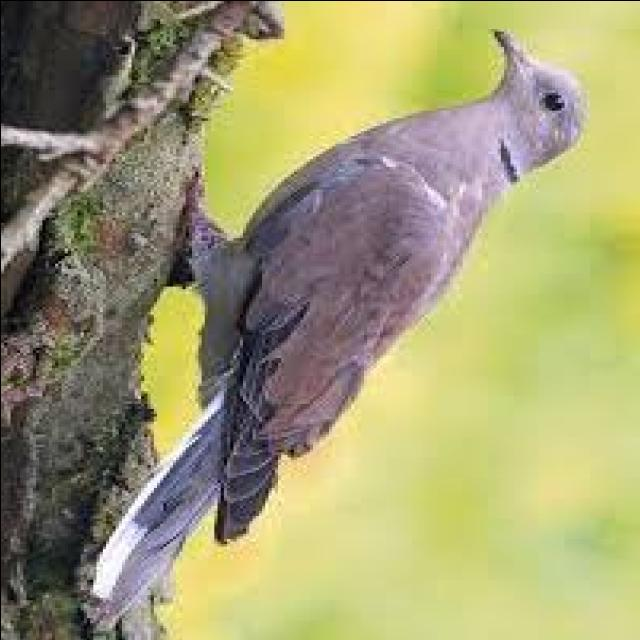pigeon: (123, 44, 571, 602)
